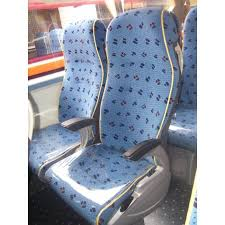seat: (39, 87, 163, 223)
